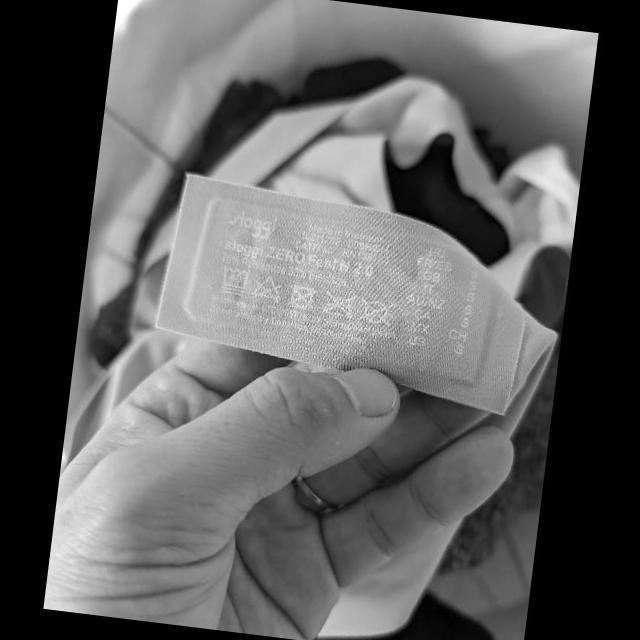40C: (218, 264, 250, 296)
DN_bleach: (249, 271, 284, 303)
DN_dry_clean: (356, 295, 396, 326)
DN_iron: (319, 288, 356, 318)
DN_tumble_dry: (283, 282, 318, 312)
